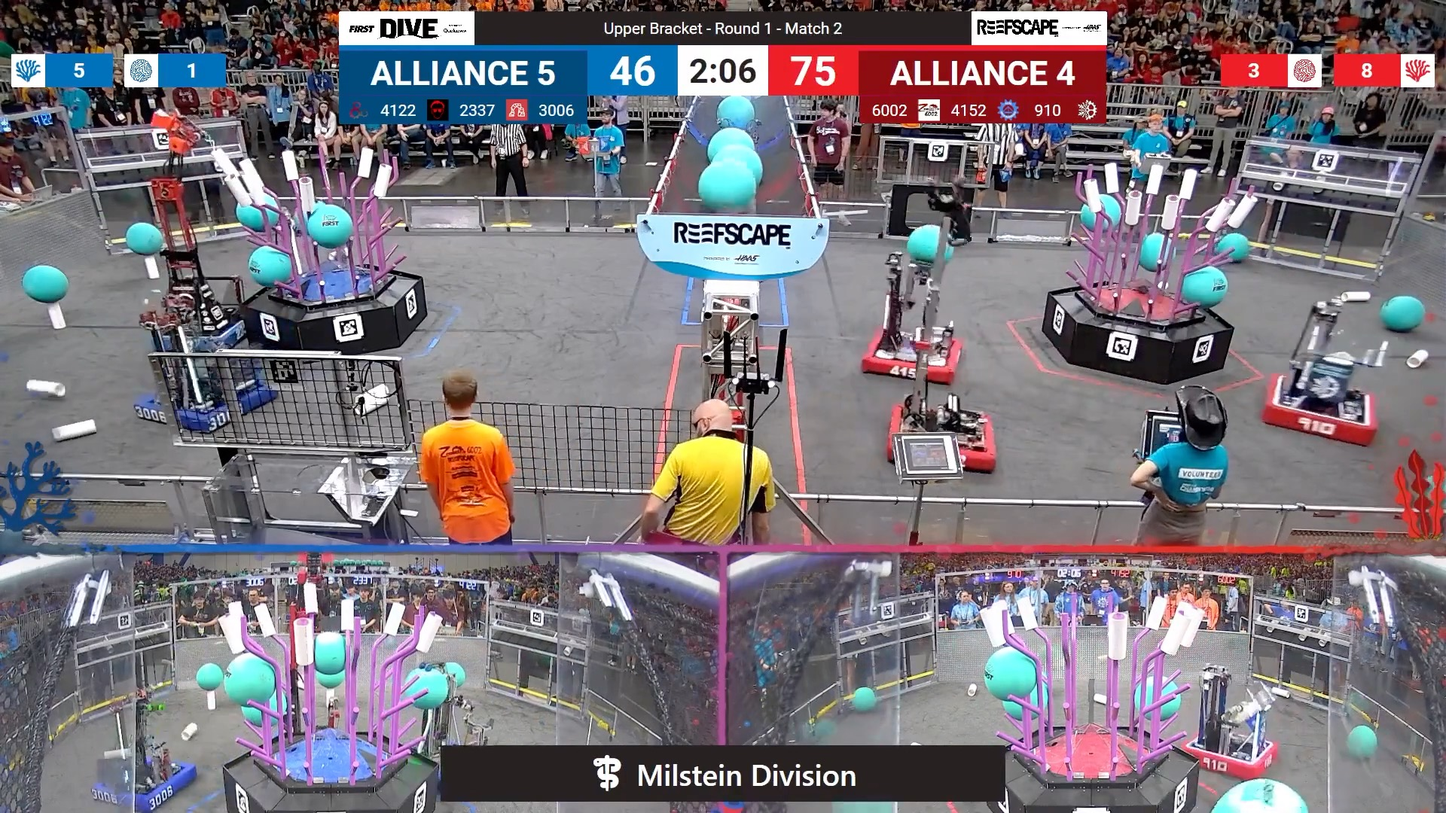bumpers: (1255, 373, 1383, 450), (881, 403, 1001, 480), (129, 381, 282, 437), (852, 324, 967, 387), (87, 755, 206, 812), (149, 294, 252, 353), (1175, 729, 1283, 781)
